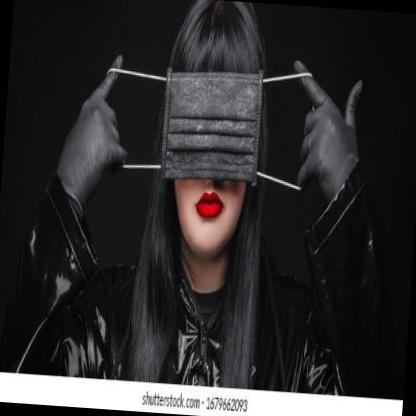Gloves: (53, 44, 138, 226), (284, 55, 366, 200)
